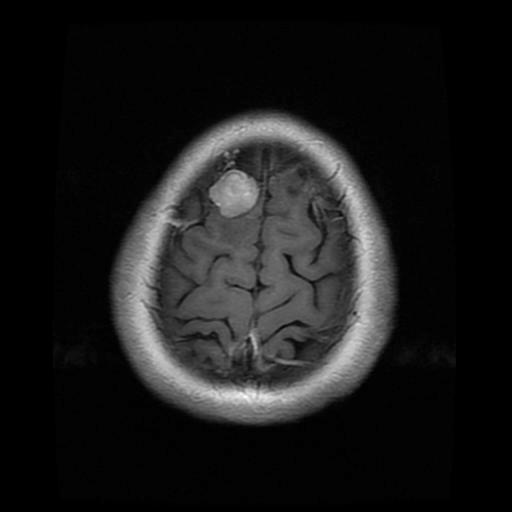Tumour-Meningioma: (198, 163, 279, 240)
